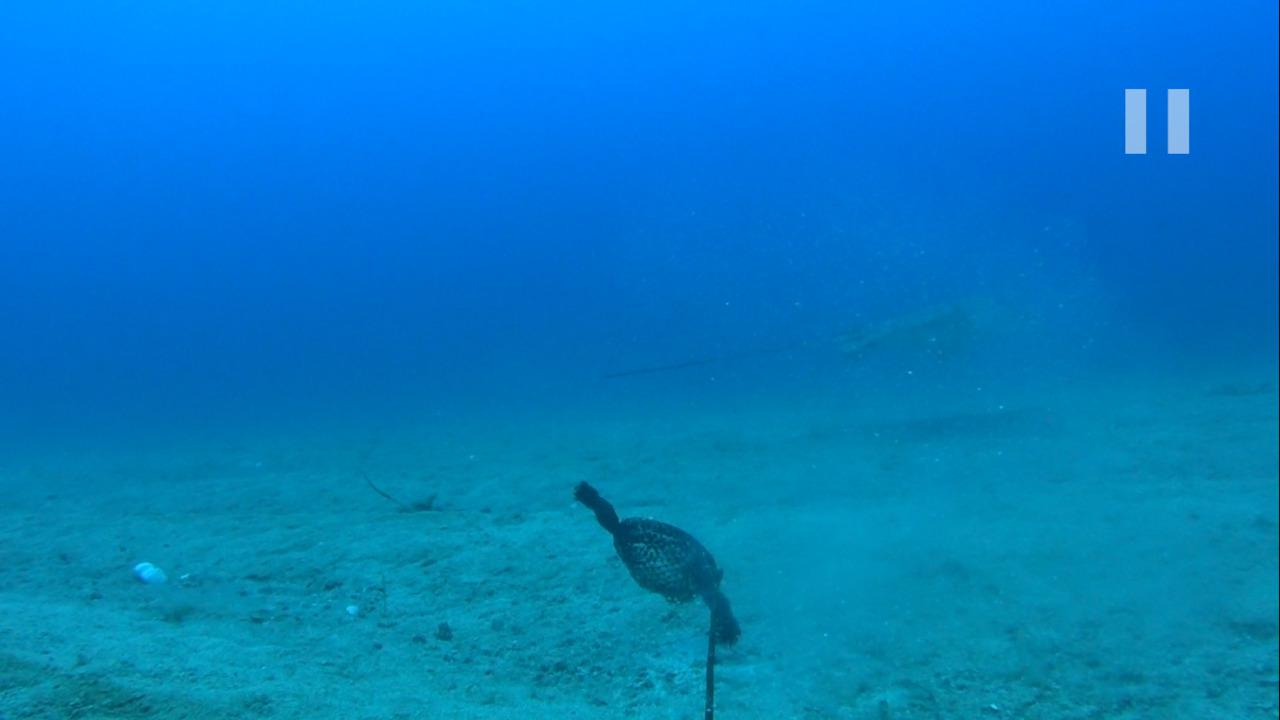myliobatis: (579, 280, 1053, 407)
